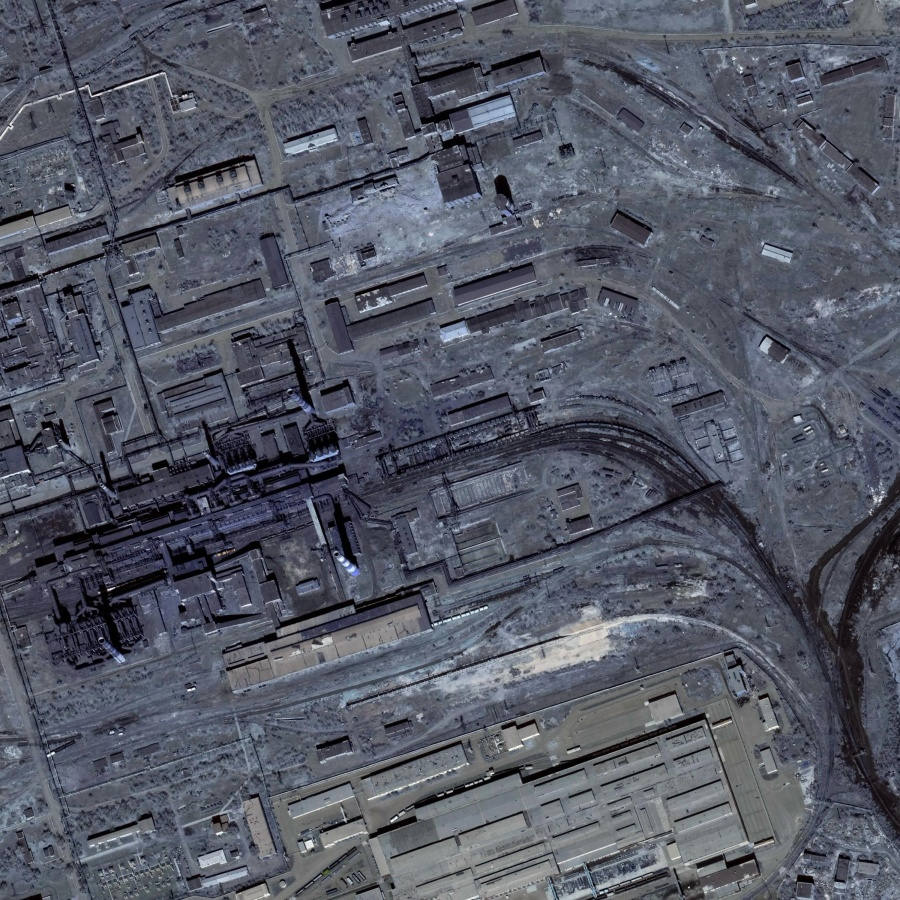PowerPlant: (28, 376, 380, 670)
